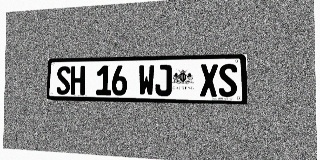1: (96, 65, 111, 95)
6: (112, 65, 127, 96)
H: (71, 66, 85, 95)
J: (155, 65, 172, 96)
S: (219, 64, 237, 97), (56, 66, 70, 95)
W: (138, 65, 155, 96)
X: (200, 64, 218, 97)
